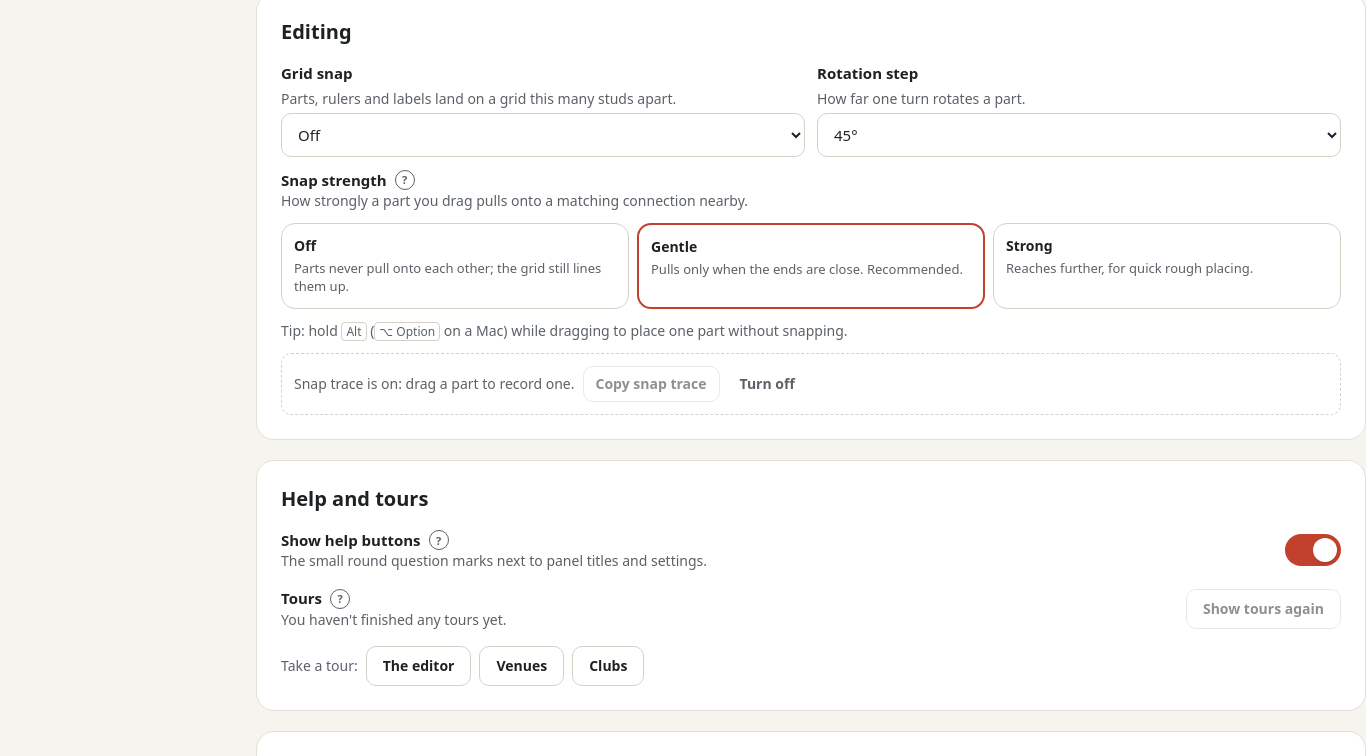
Test case: snap trace (hidden) › stays hidden until /settings?snaptrace=1 turns it on, and Turn off hides it again
Expected: the element with test id "snap-trace" shows "Snap trace is on", [294,374,406,393]
What coordinates should you click on to do the following:
click the button "Turn off"
I would click on:
 (767, 384)
Its box is [728,366,807,402].
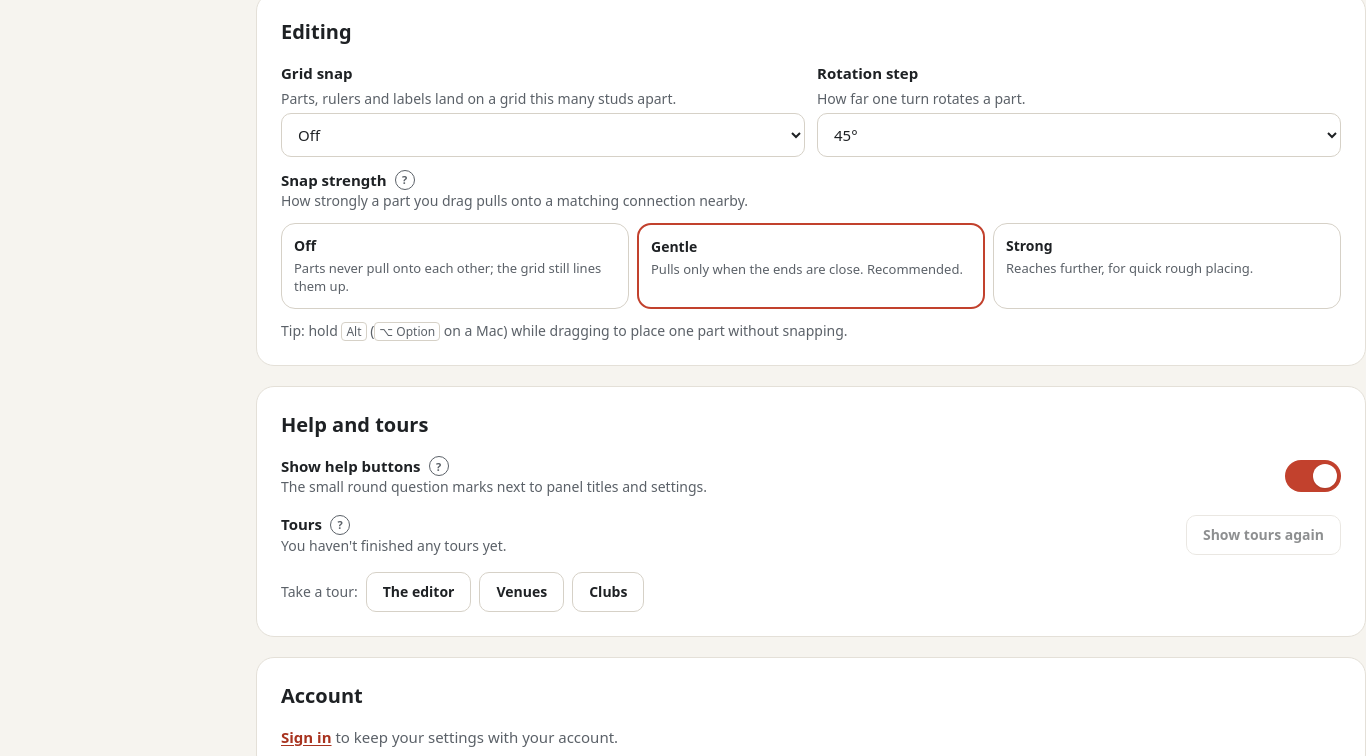
Expected: the element with test id "snap-trace" is gone
